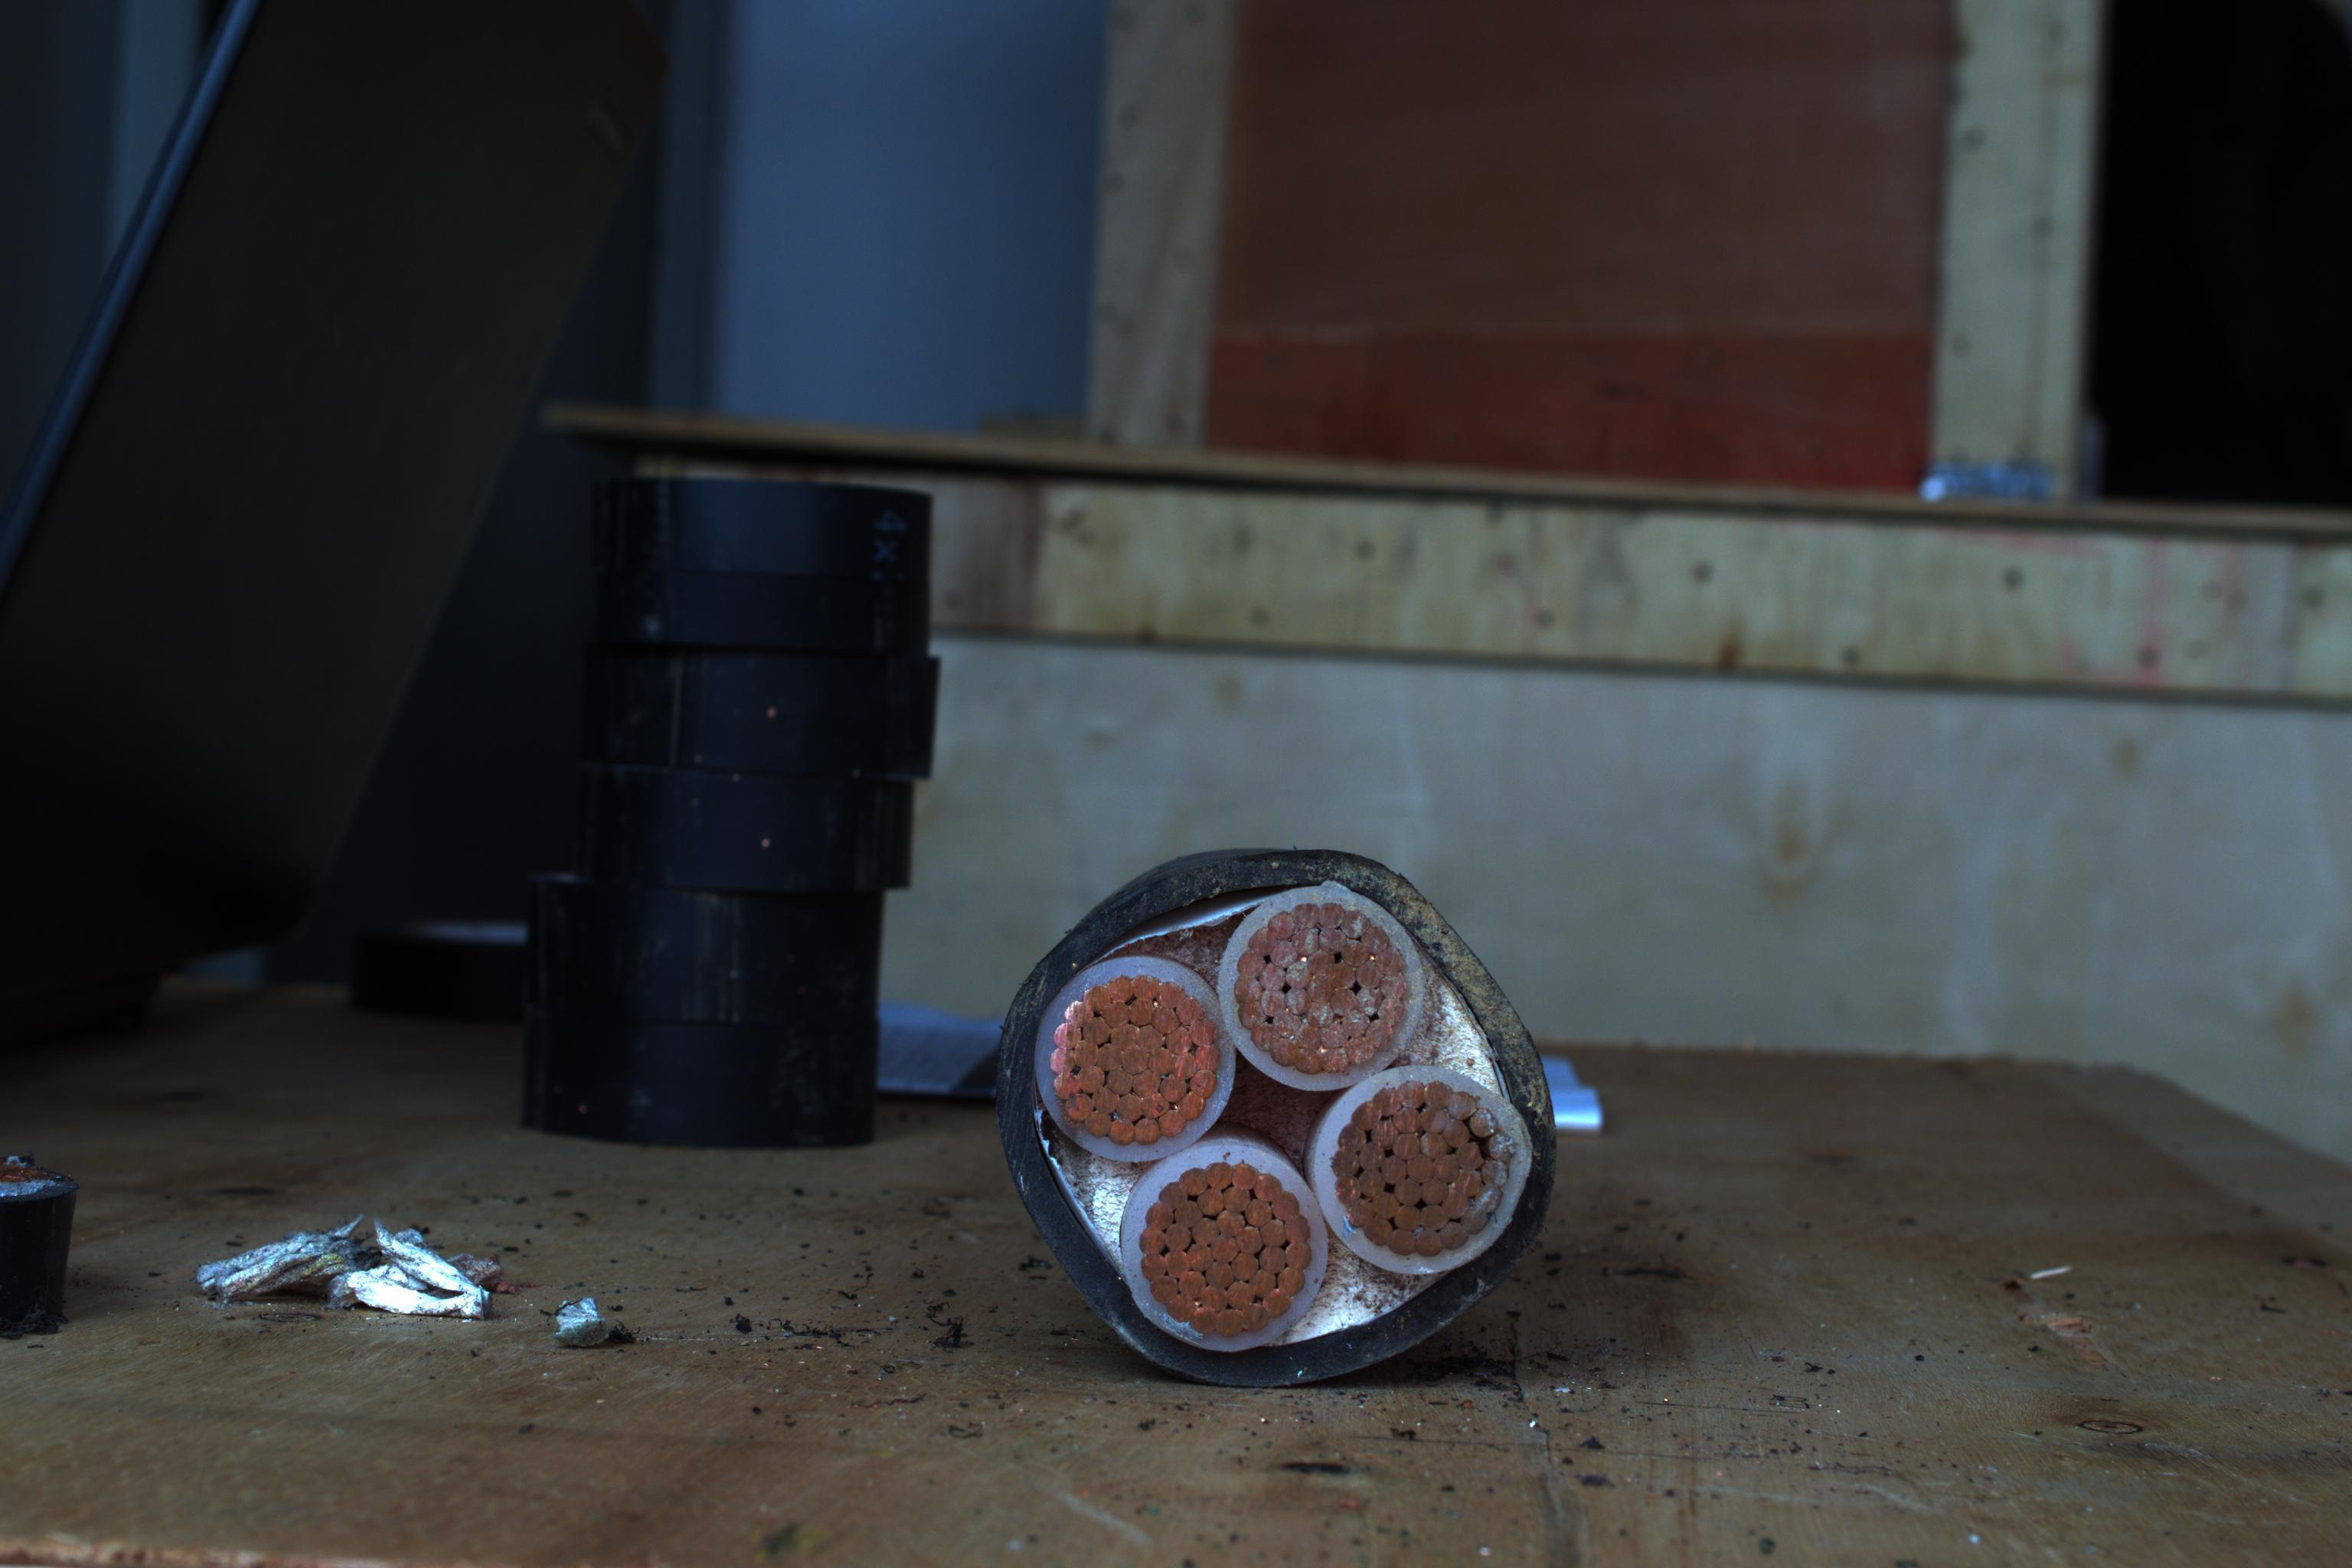YJV_0.6_1kV_4x240: (982, 864, 1578, 1396)
